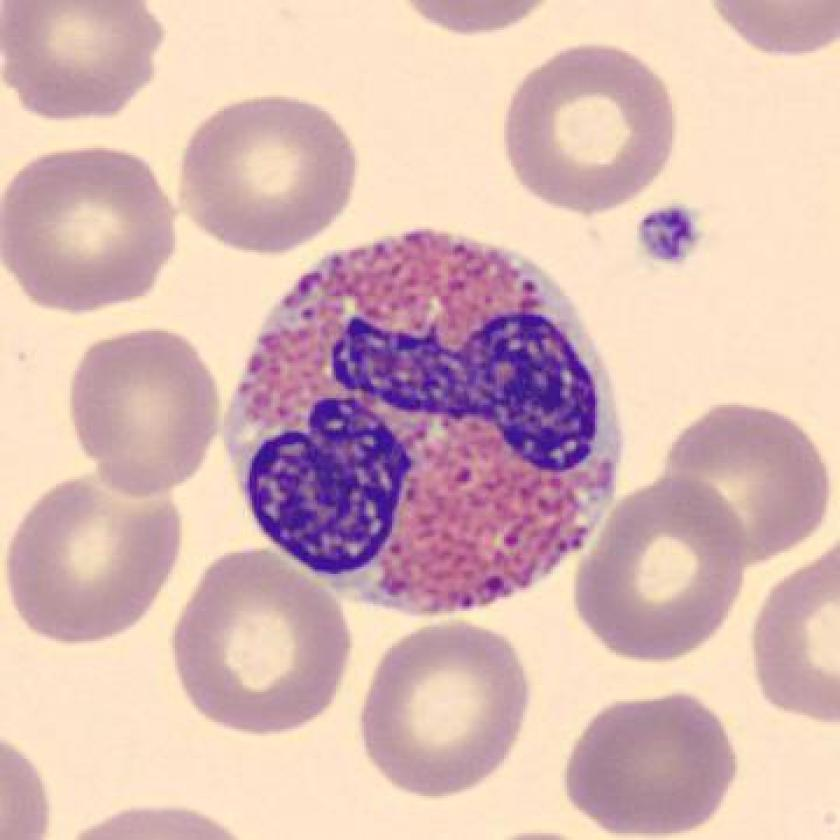eosinophil: (218, 226, 636, 628)
